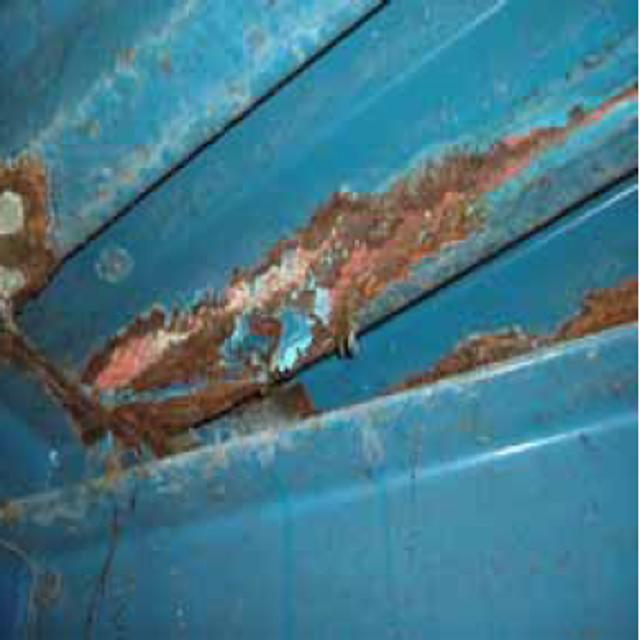corrosion: (6, 84, 638, 466)
